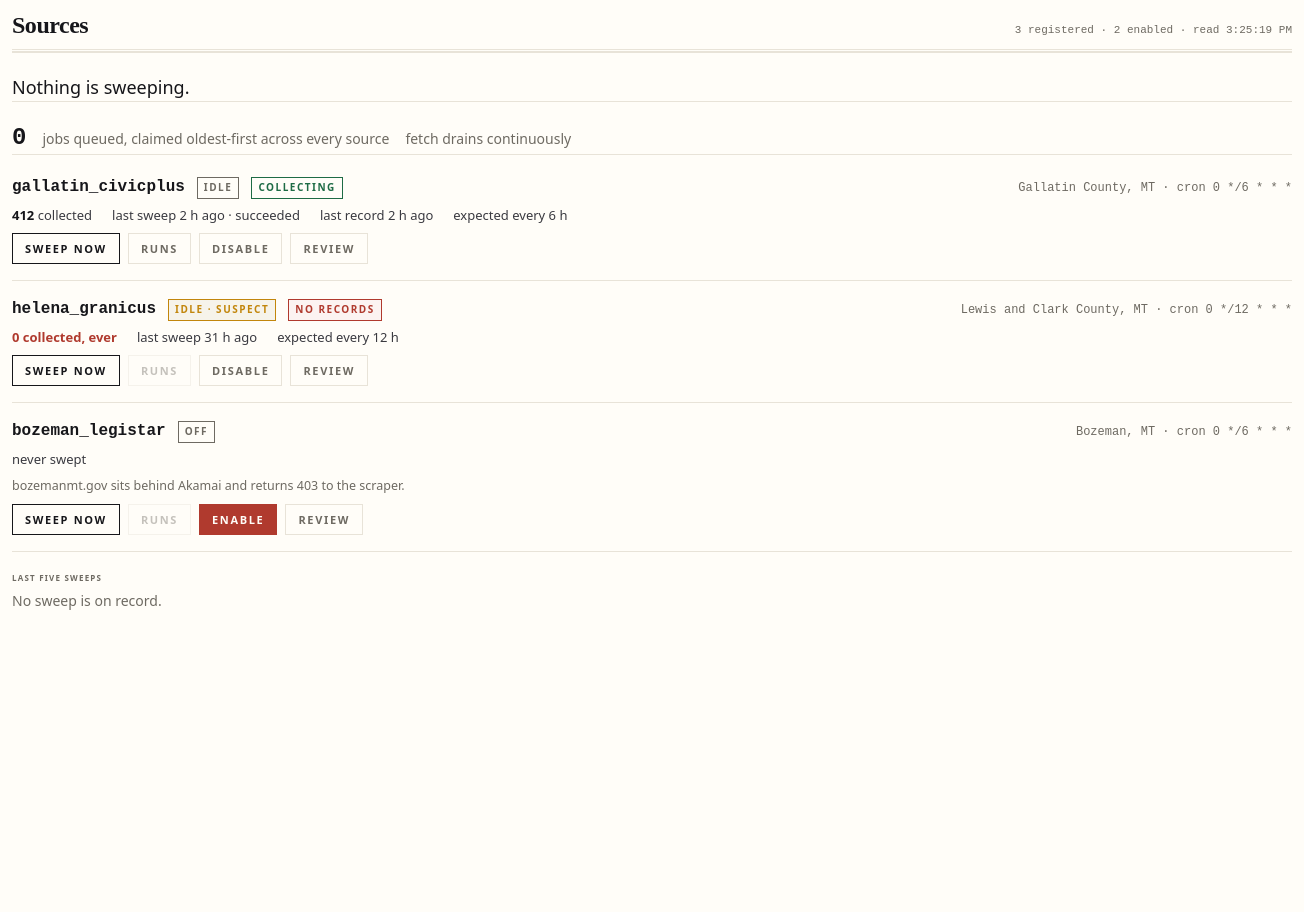
Scenario: AdminSourcesPage › surfaces a refusal rather than claiming the source was enabled
Click the button with test id "toggle-s3": (238, 519) x1=199 y1=504 x2=278 y2=535
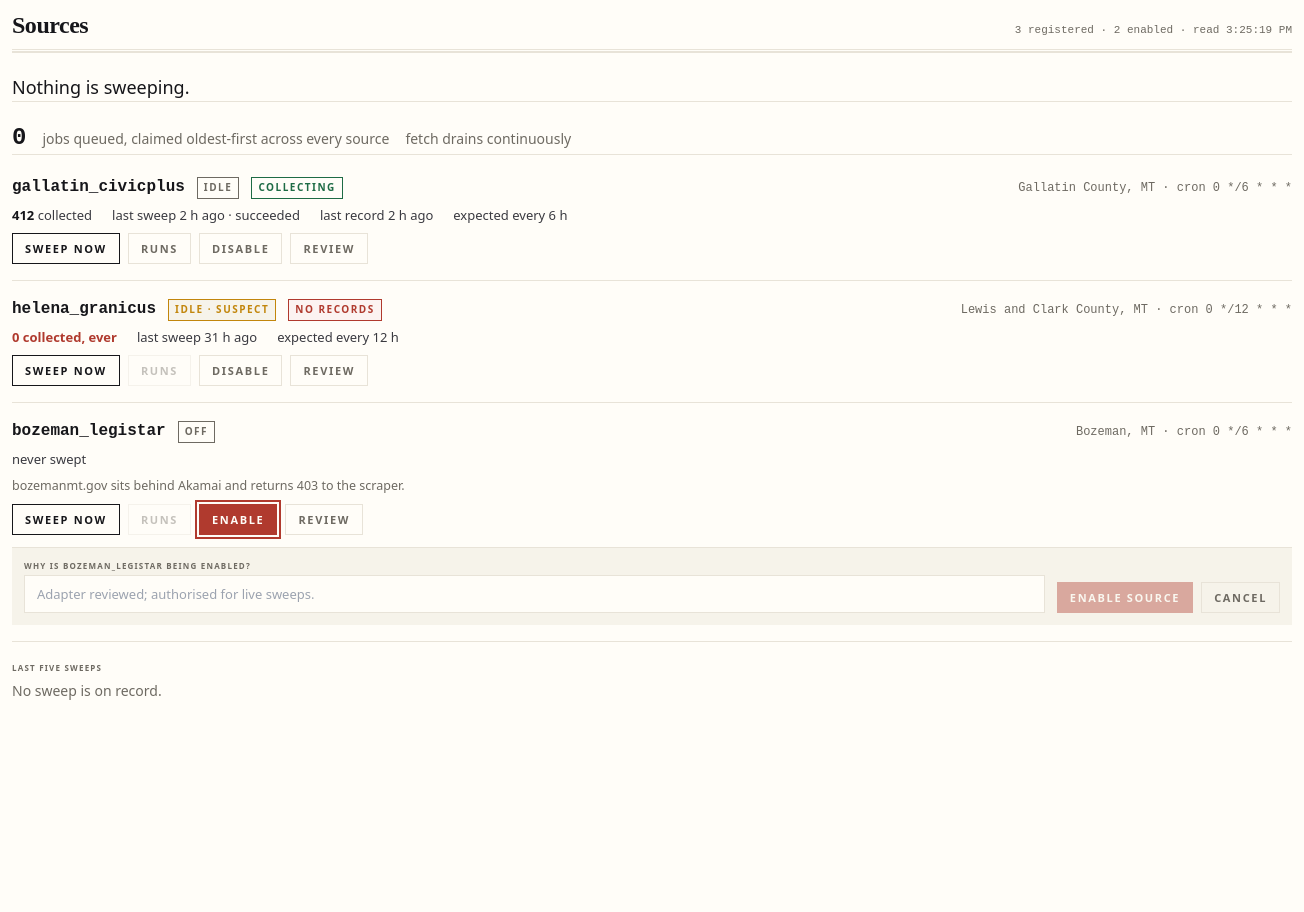
In the field labelled "Why is bozeman_legistar being enabled?": (534, 594) x1=24 y1=575 x2=1045 y2=613, type "x"
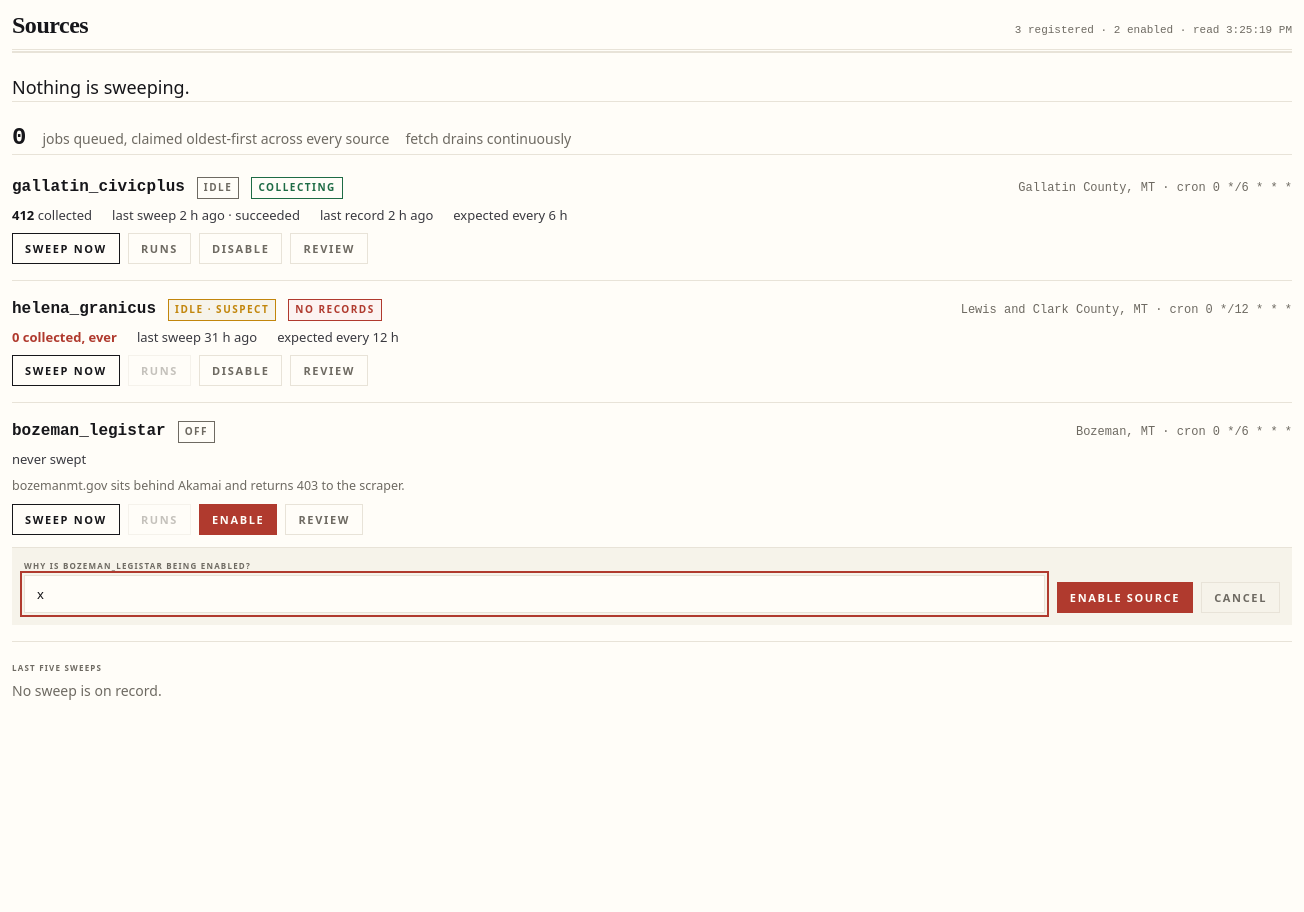
Click the button "Enable source": (1125, 598) x1=1057 y1=582 x2=1193 y2=613
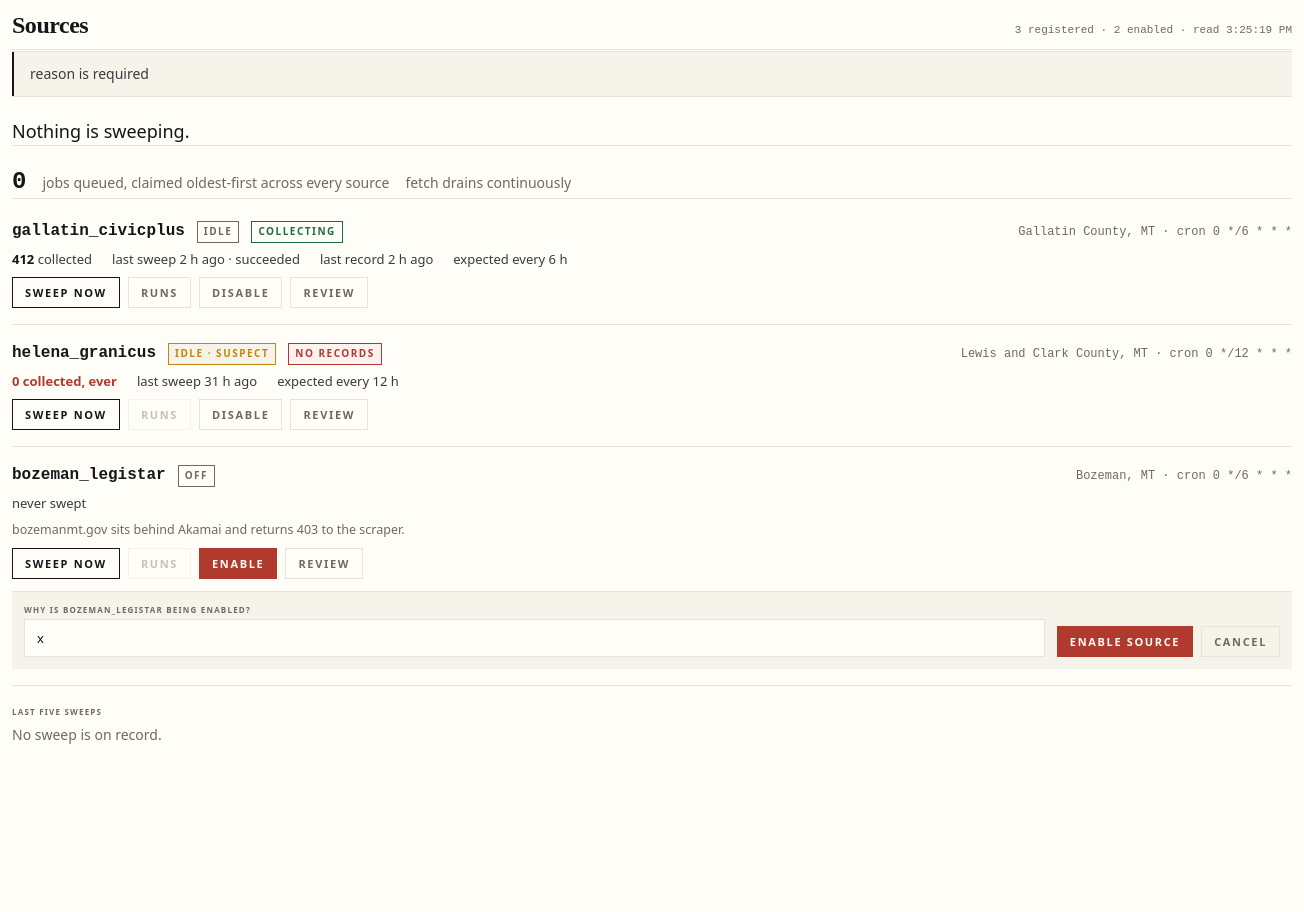
Check: the message with test id "notice" reads "reason is required", box x1=30 y1=64 x2=149 y2=83
